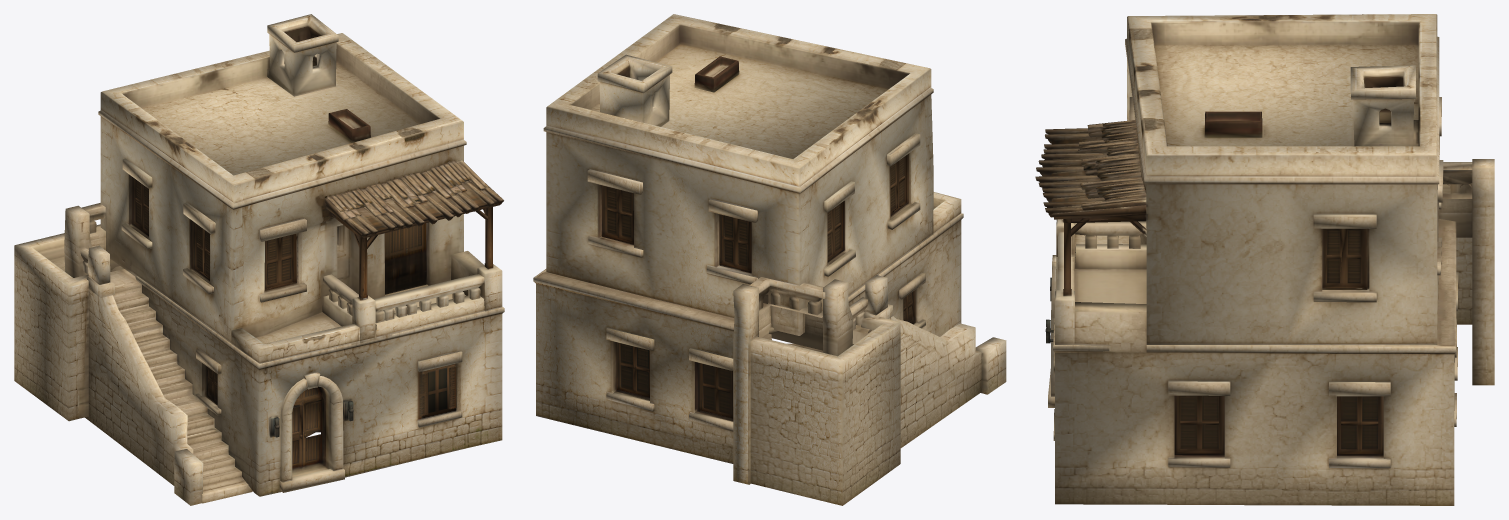
File: generated-1948-02-netanya-two-storey-balcony-house.glb
The picture shows the model from 3 angles, left to right: view 1: azimuth 30°, elevation 25°; view 2: azimuth 150°, elevation 25°; view 3: azimuth 270°, elevation 25°; orthographic projection. The views are drawn at different scales.
Visible parts, largest first — view 1: tripo_node_1b56f9ea-bcd9-4c5f-b6a4-25e352325443; view 2: tripo_node_1b56f9ea-bcd9-4c5f-b6a4-25e352325443; view 3: tripo_node_1b56f9ea-bcd9-4c5f-b6a4-25e352325443.
Boxes of the visible parts, <box> form: tripo_node_1b56f9ea-bcd9-4c5f-b6a4-25e352325443: <box>14,14,504,505</box>; tripo_node_1b56f9ea-bcd9-4c5f-b6a4-25e352325443: <box>533,14,1006,505</box>; tripo_node_1b56f9ea-bcd9-4c5f-b6a4-25e352325443: <box>1035,14,1494,505</box>.
Size of the model in its own units: 0.939 by 0.9536 by 0.9995.
Materials: 1 (1 with a texture image).
